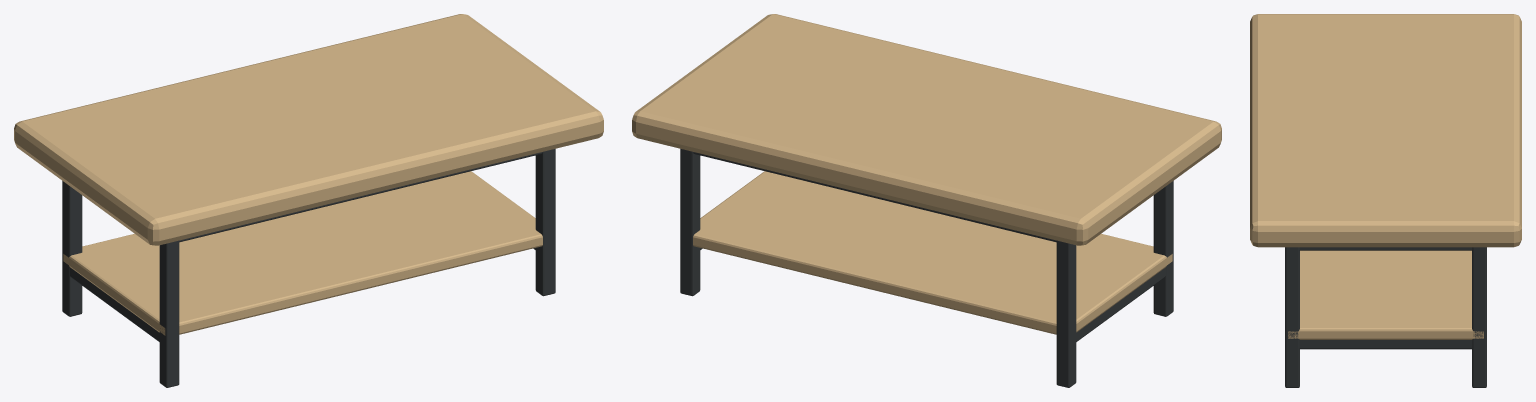
File: table_coffee.glb
3 renders of one model, left to right at view 1: azimuth 30°, elevation 25°; view 2: azimuth 150°, elevation 25°; view 3: azimuth 270°, elevation 25°, orthographic. The views are drawn at different scales.
Parts seen in each view (by area): view 1: CoffeeTable_Top, CoffeeTable_Lower_Shelf, CoffeeTable_Leg, CoffeeTable_Leg.002, CoffeeTable_Leg.001, CoffeeTable_Front_Back_Apron, CoffeeTable_Shelf_Support; view 2: CoffeeTable_Top, CoffeeTable_Lower_Shelf, CoffeeTable_Leg.001, CoffeeTable_Leg.003, CoffeeTable_Leg, CoffeeTable_Front_Back_Apron.001, CoffeeTable_Shelf_Support; view 3: CoffeeTable_Top, CoffeeTable_Lower_Shelf, CoffeeTable_Leg.002, CoffeeTable_Leg.003, CoffeeTable_Shelf_Support.001, CoffeeTable_Side_Apron.001.
Part boxes in pixels (box(x1,y1,x2,y2)): CoffeeTable_Top: box(14, 14, 603, 245); CoffeeTable_Lower_Shelf: box(63, 171, 542, 335); CoffeeTable_Leg: box(159, 240, 179, 387); CoffeeTable_Leg.002: box(535, 149, 555, 296); CoffeeTable_Leg.001: box(62, 181, 82, 316); CoffeeTable_Front_Back_Apron: box(179, 152, 542, 242); CoffeeTable_Shelf_Support: box(70, 267, 159, 341); CoffeeTable_Top: box(632, 14, 1221, 245); CoffeeTable_Lower_Shelf: box(693, 171, 1172, 334); CoffeeTable_Leg.001: box(1056, 240, 1076, 387); CoffeeTable_Leg.003: box(680, 149, 700, 296); CoffeeTable_Leg: box(1153, 181, 1173, 316); CoffeeTable_Front_Back_Apron.001: box(693, 152, 1056, 242); CoffeeTable_Shelf_Support: box(1076, 267, 1165, 341); CoffeeTable_Top: box(1250, 14, 1521, 247); CoffeeTable_Lower_Shelf: box(1288, 250, 1483, 339); CoffeeTable_Leg.002: box(1285, 247, 1299, 387); CoffeeTable_Leg.003: box(1472, 247, 1486, 387); CoffeeTable_Shelf_Support.001: box(1299, 340, 1472, 349); CoffeeTable_Side_Apron.001: box(1299, 247, 1472, 250).
Size of the model in its own units: 1.06 by 0.415 by 0.57.
